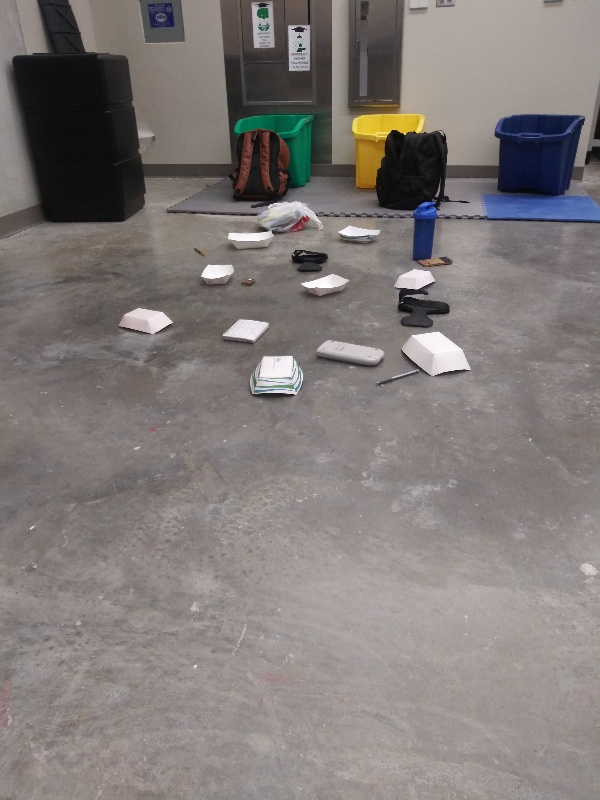plate: (396, 327, 478, 381), (243, 351, 309, 401), (114, 306, 177, 339), (292, 269, 352, 298), (223, 228, 275, 254), (389, 266, 438, 293), (198, 259, 237, 289), (333, 222, 383, 245)
